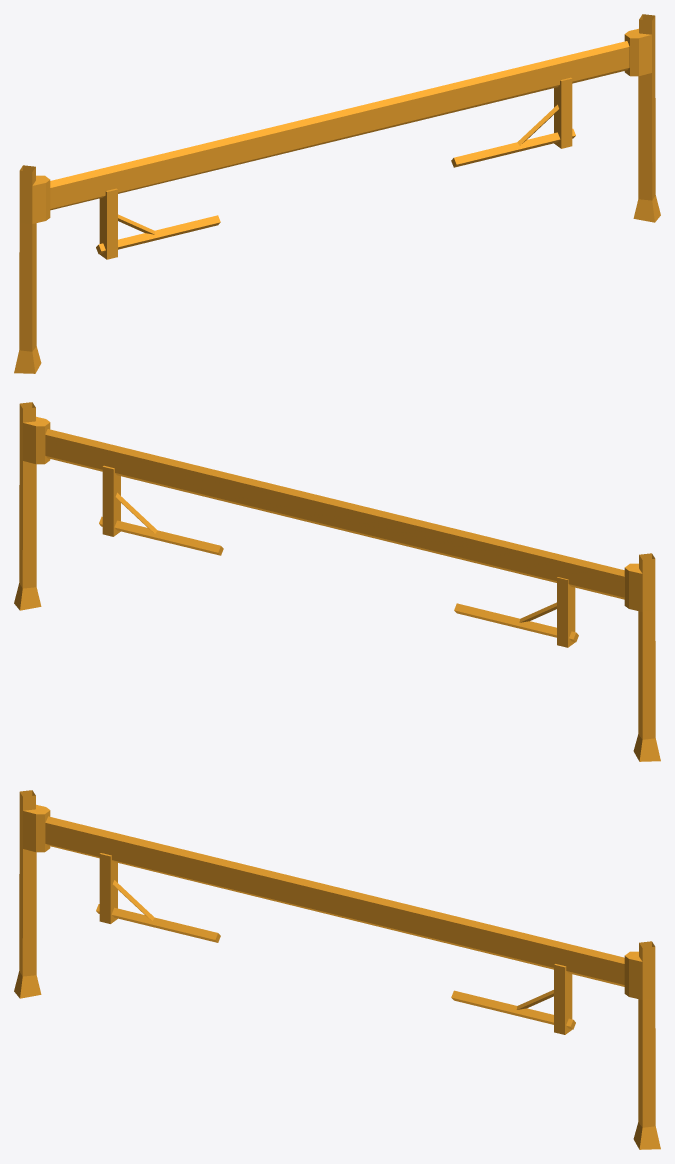
The model's file is SM_Train_Wiring_Double_Roof_Collider.fbx.
The picture shows the model from 3 angles, top to bottom: view 1: azimuth 30°, elevation 25°; view 2: azimuth 150°, elevation 25°; view 3: azimuth 330°, elevation 25°; orthographic projection.
Visible parts, largest first — view 1: SM_Train_Wiring_Double_Roof_Collider; view 2: SM_Train_Wiring_Double_Roof_Collider; view 3: SM_Train_Wiring_Double_Roof_Collider.
Boxes of the visible parts, x1,y1,x2,y2 form: SM_Train_Wiring_Double_Roof_Collider: (14, 14, 660, 373); SM_Train_Wiring_Double_Roof_Collider: (14, 402, 660, 761); SM_Train_Wiring_Double_Roof_Collider: (14, 790, 660, 1149).
Bounding box in the file's own units: 14.08 × 4.18 × 0.5823.
